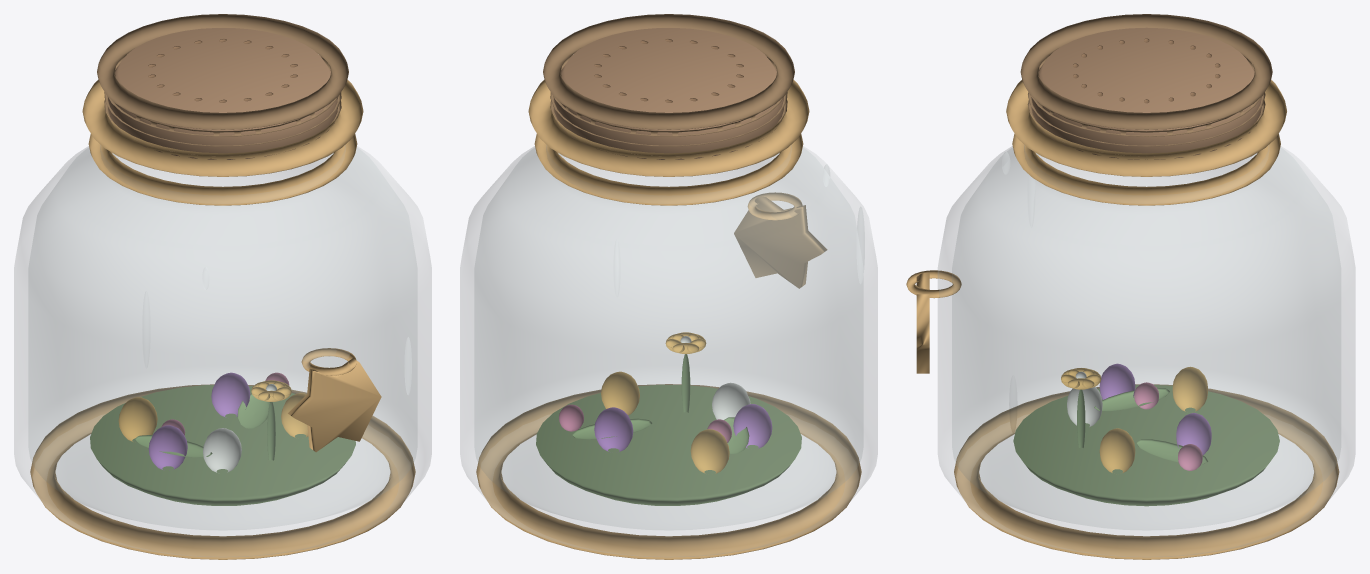
File: jar_08_sweet.glb
The picture shows the model from 3 angles, left to right: view 1: azimuth 30°, elevation 25°; view 2: azimuth 150°, elevation 25°; view 3: azimuth 270°, elevation 25°; orthographic projection.
Parts seen in each view (by area): view 1: Outer glass wall, Inner glass wall, Natural cork stopper, Soft moss and earth bed, Foot brass ring, Stopper top binding, Stopper retaining ring, Sugared sweet (×5), Neck collar, Unlabeled flower charm, Cork grain (×2), Charm loop (+1 smaller); view 2: Outer glass wall, Inner glass wall, Natural cork stopper, Soft moss and earth bed, Foot brass ring, Stopper top binding, Stopper retaining ring, Sugared sweet (×5), Neck collar, Unlabeled flower charm, Cork grain (×2), Charm loop (+1 smaller); view 3: Outer glass wall, Inner glass wall, Natural cork stopper, Soft moss and earth bed, Foot brass ring, Stopper top binding, Stopper retaining ring, Neck collar, Sugared sweet (×5), Pressed botanical leaf (×2), Unlabeled flower charm, Cork grain (+2 smaller).
Part boxes in pixels (x1=…): Outer glass wall: x1=14, y1=145, x2=431, y2=557; Inner glass wall: x1=29, y1=148, x2=416, y2=529; Natural cork stopper: x1=108, y1=28, x2=337, y2=159; Soft moss and earth bed: x1=90, y1=385, x2=355, y2=505; Foot brass ring: x1=30, y1=384, x2=415, y2=559; Stopper top binding: x1=97, y1=14, x2=348, y2=129; Stopper retaining ring: x1=82, y1=80, x2=363, y2=176; Sugared sweet (×5): x1=118, y1=372, x2=308, y2=472; Neck collar: x1=88, y1=134, x2=357, y2=205; Unlabeled flower charm: x1=288, y1=358, x2=381, y2=452; Cork grain (×2): x1=104, y1=55, x2=341, y2=146; Charm loop: x1=301, y1=348, x2=356, y2=375; Outer glass wall: x1=460, y1=145, x2=877, y2=557; Inner glass wall: x1=475, y1=148, x2=862, y2=529; Natural cork stopper: x1=554, y1=28, x2=783, y2=159; Soft moss and earth bed: x1=536, y1=384, x2=801, y2=505; Foot brass ring: x1=476, y1=384, x2=861, y2=559; Stopper top binding: x1=543, y1=14, x2=794, y2=129; Stopper retaining ring: x1=528, y1=80, x2=809, y2=176; Sugared sweet (×5): x1=594, y1=371, x2=772, y2=473; Neck collar: x1=534, y1=134, x2=803, y2=205; Unlabeled flower charm: x1=734, y1=196, x2=827, y2=288; Cork grain (×2): x1=550, y1=55, x2=787, y2=146; Charm loop: x1=747, y1=192, x2=802, y2=220; Outer glass wall: x1=938, y1=145, x2=1355, y2=557; Inner glass wall: x1=952, y1=148, x2=1340, y2=529; Natural cork stopper: x1=1031, y1=27, x2=1261, y2=159; Soft moss and earth bed: x1=1013, y1=385, x2=1279, y2=506; Foot brass ring: x1=954, y1=384, x2=1339, y2=559; Stopper top binding: x1=1020, y1=14, x2=1272, y2=129; Stopper retaining ring: x1=1006, y1=80, x2=1286, y2=176; Neck collar: x1=1012, y1=134, x2=1280, y2=205; Sugared sweet (×5): x1=1067, y1=363, x2=1211, y2=472; Pressed botanical leaf (×2): x1=1094, y1=387, x2=1208, y2=464; Unlabeled flower charm: x1=916, y1=273, x2=929, y2=373; Cork grain: x1=1030, y1=54, x2=1262, y2=136.
Bounding box in the file's own units: 1.15 × 1.29 × 1.23.
